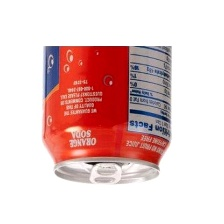can: (40, 44, 175, 192)
